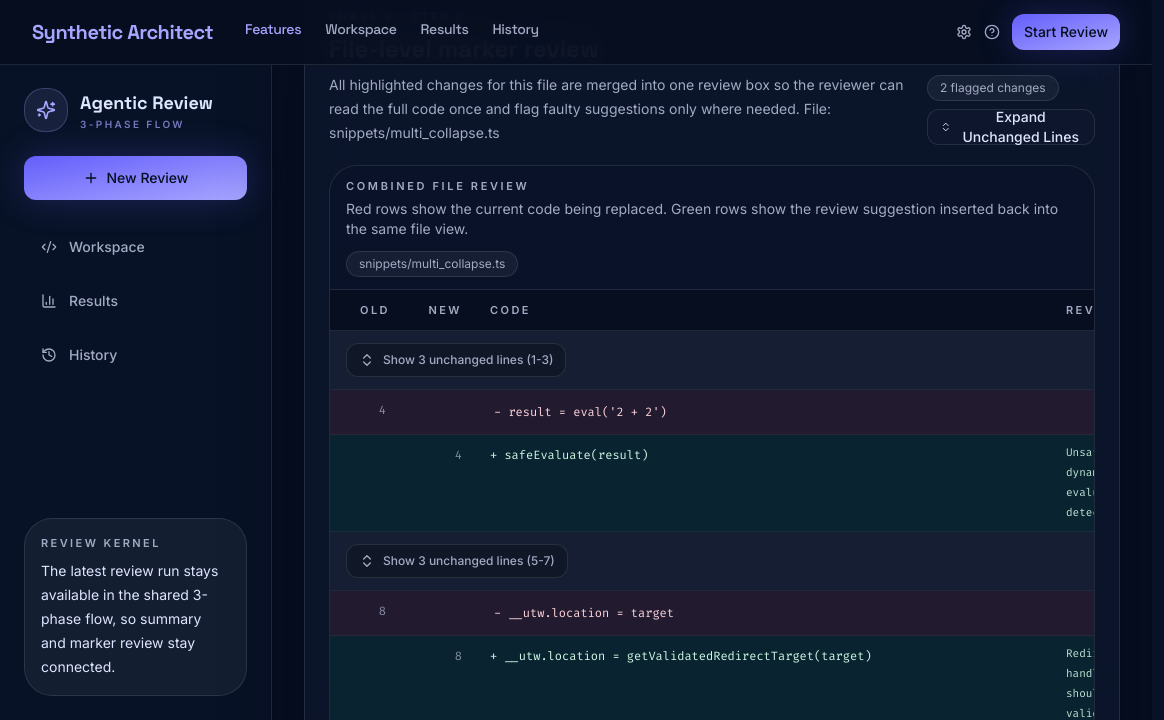
Test case: ReviewFlowPage › expands only the selected collapsed section in step 3 instead of every section at once
(page scrolled)
Check: the button "Show 3 unchanged lines (5-7)" is shown, box top-left (346, 544), bottom-right (568, 578)
What coordinates should you click on to do the following:
click the button "Show 3 unchanged lines (1-3)"
I would click on:
 (456, 360)
Its box is top-left (346, 343), bottom-right (566, 377).
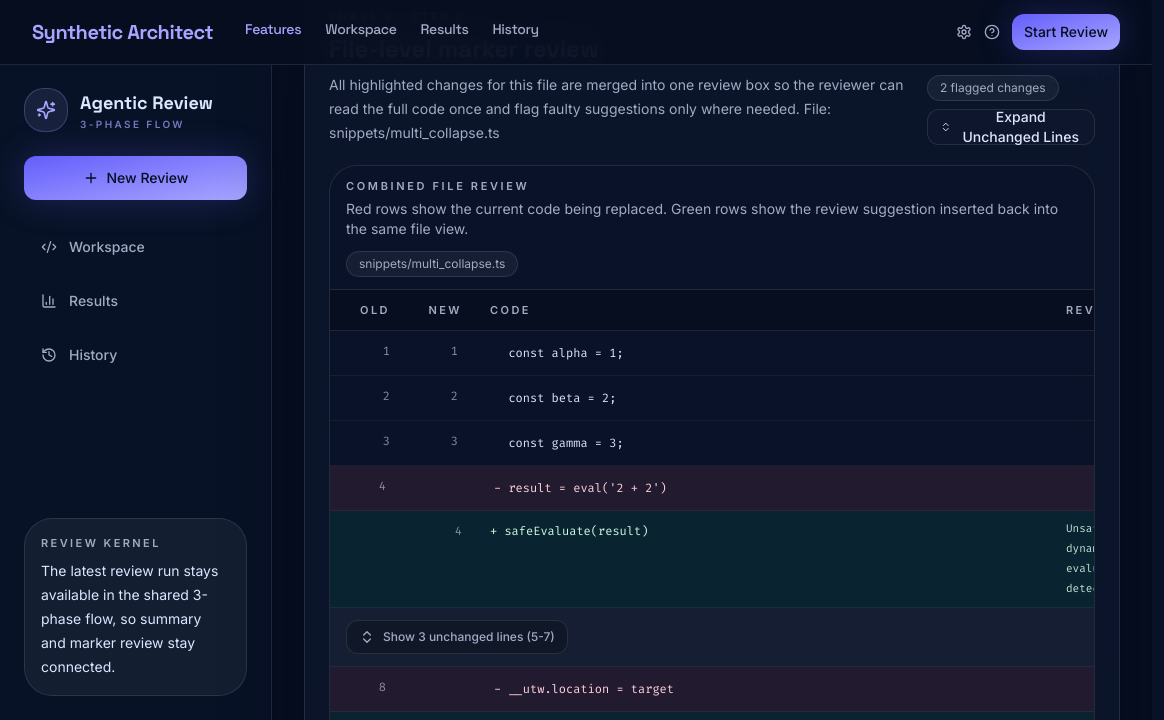
Check: the button "Show 3 unchanged lines (5-7)" is shown, box top-left (346, 620), bottom-right (568, 654)
Check: the text "const alpha = 1;" is shown, box top-left (508, 345), bottom-right (624, 361)
